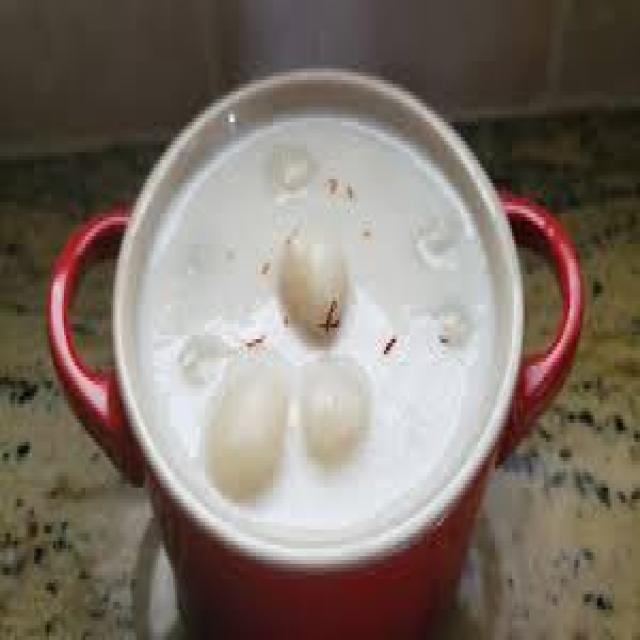paal kolukattai: (114, 89, 506, 563)
